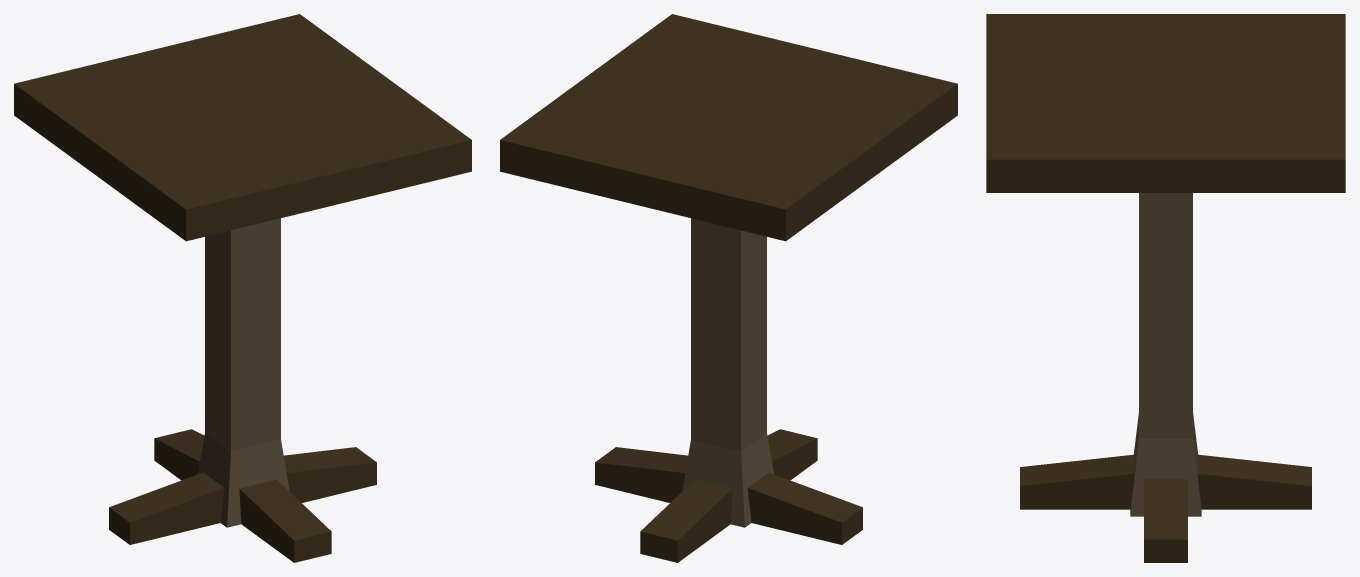
The model's file is Table_Box.fbx.
3 views of the same model, side by side, from view 1: azimuth 30°, elevation 25°; view 2: azimuth 150°, elevation 25°; view 3: azimuth 270°, elevation 25° (orthographic). The views are drawn at different scales.
Parts seen in each view (by area): view 1: Table_Box; view 2: Table_Box; view 3: Table_Box.
Part boxes in pixels (x1=…): Table_Box: x1=14, y1=14, x2=471, y2=562; Table_Box: x1=500, y1=14, x2=957, y2=562; Table_Box: x1=986, y1=14, x2=1345, y2=562.
Size of the model in its own units: 71.93 by 95.09 by 75.
